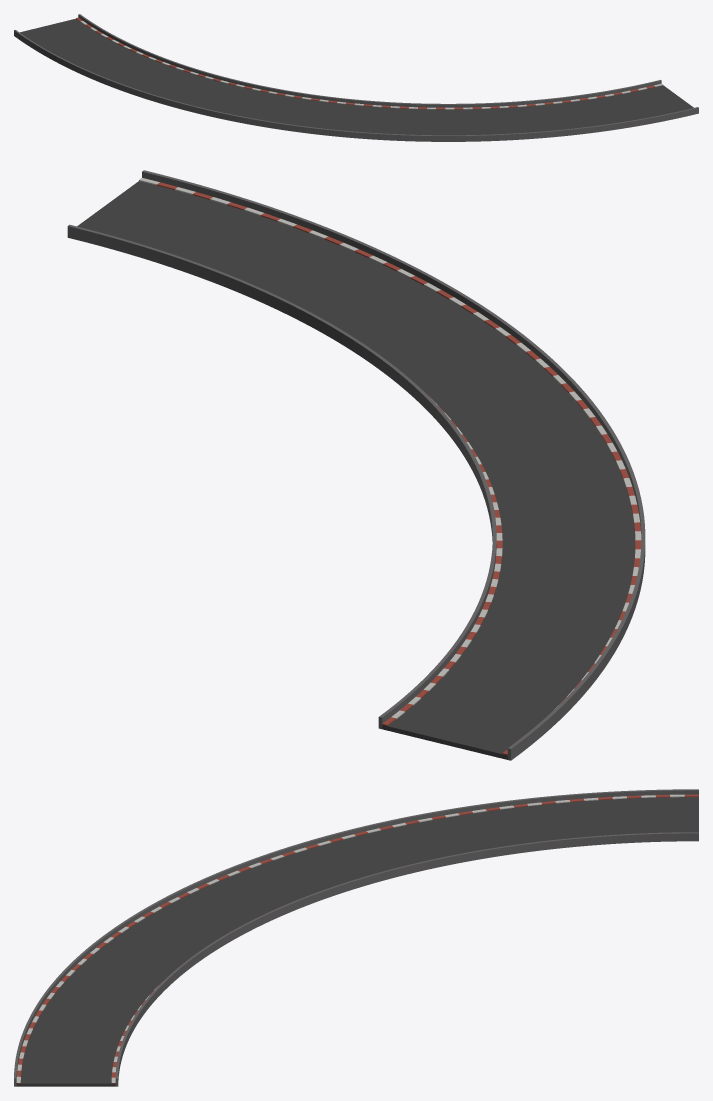
The model's file is tp-corner-large.glb.
The picture shows the model from 3 angles, top to bottom: view 1: azimuth 30°, elevation 25°; view 2: azimuth 150°, elevation 25°; view 3: azimuth 270°, elevation 25°; orthographic projection. The views are drawn at different scales.
Parts seen in each view (by area): view 1: tp-corner-large; view 2: tp-corner-large; view 3: tp-corner-large.
Boxes of the visible parts, x1,y1,x2,y2 form: tp-corner-large: [14, 14, 698, 141]; tp-corner-large: [67, 170, 645, 760]; tp-corner-large: [14, 789, 698, 1086].
Size of what is drawn, in the model's own units: 101 by 1.3 by 101.
Materials: 1 (1 with a texture image).
